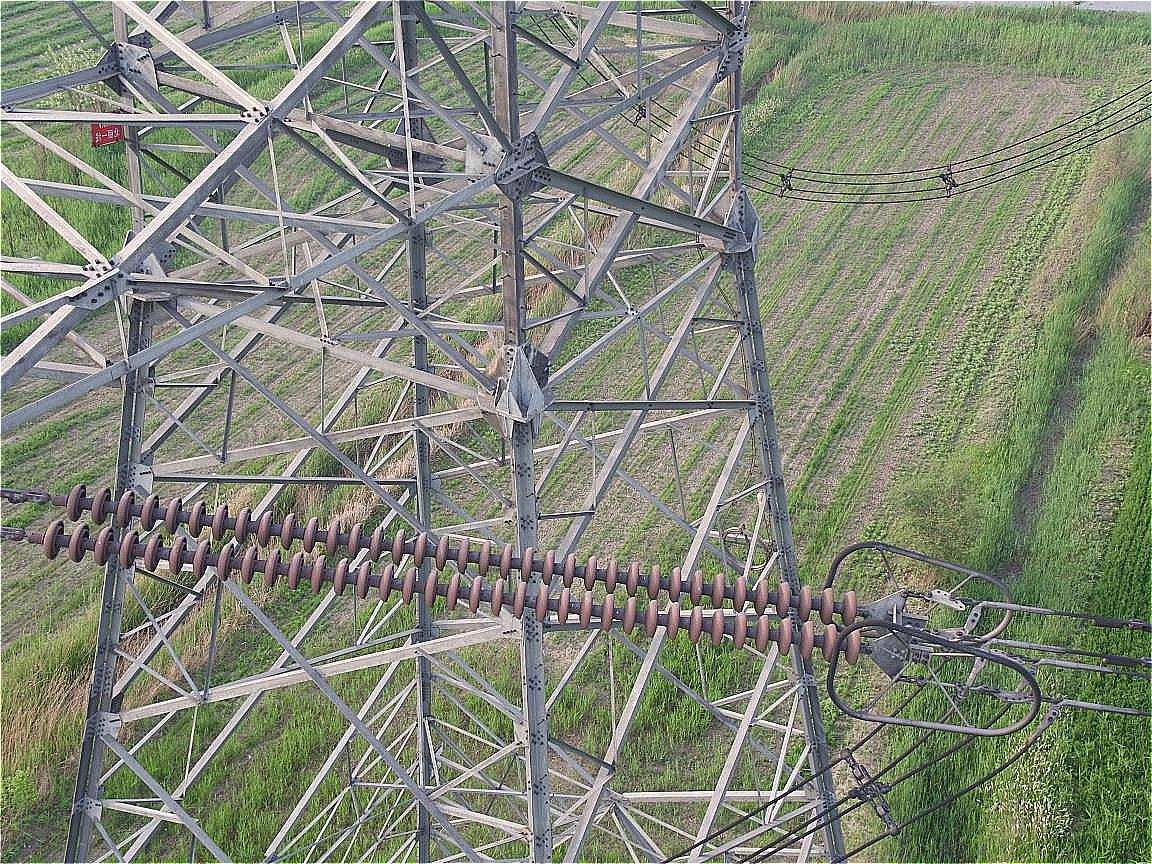insultor1: (42, 482, 863, 665)
